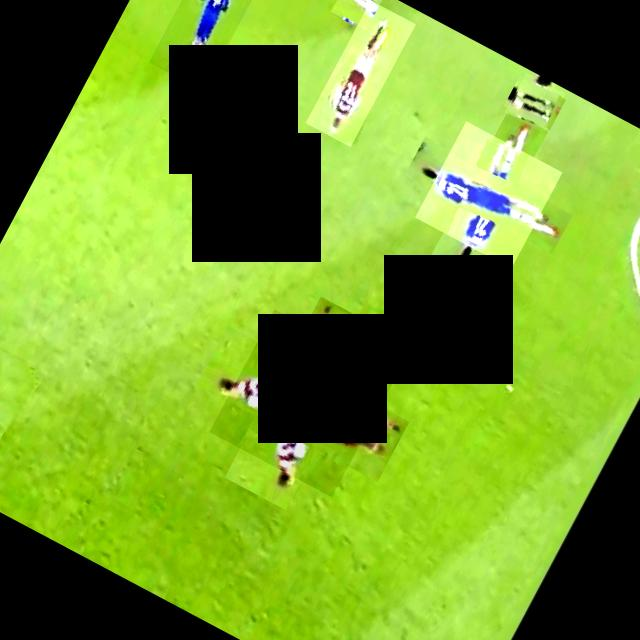referee: (504, 71, 564, 132)
soccer-player: (208, 308, 396, 496), (414, 120, 561, 267), (304, 0, 414, 145), (147, 0, 271, 89), (0, 322, 42, 495), (329, 0, 384, 29)
